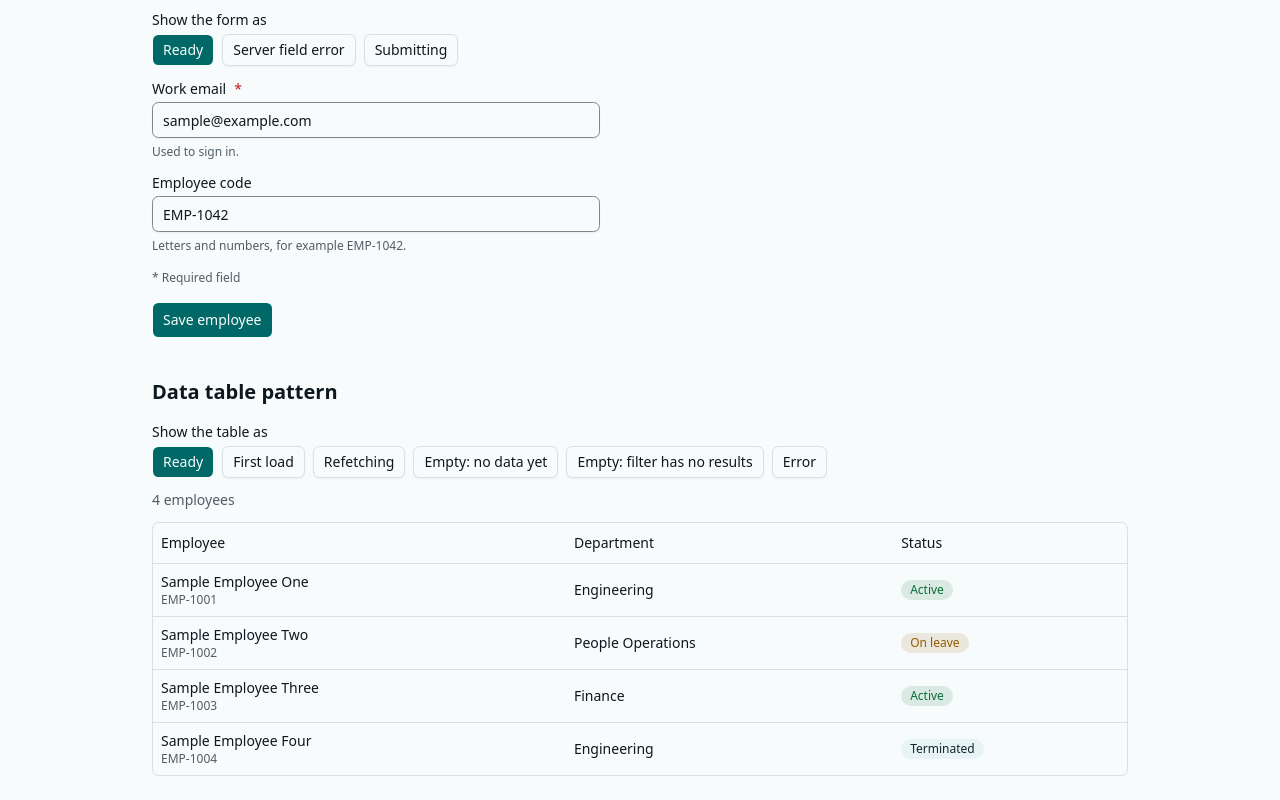
FoundationPreview › data table states › shows an error with a way to retry
(page scrolled)
Step 1. Click the button "Error" → (799, 462), box [772,446,827,478]
(page scrolled)
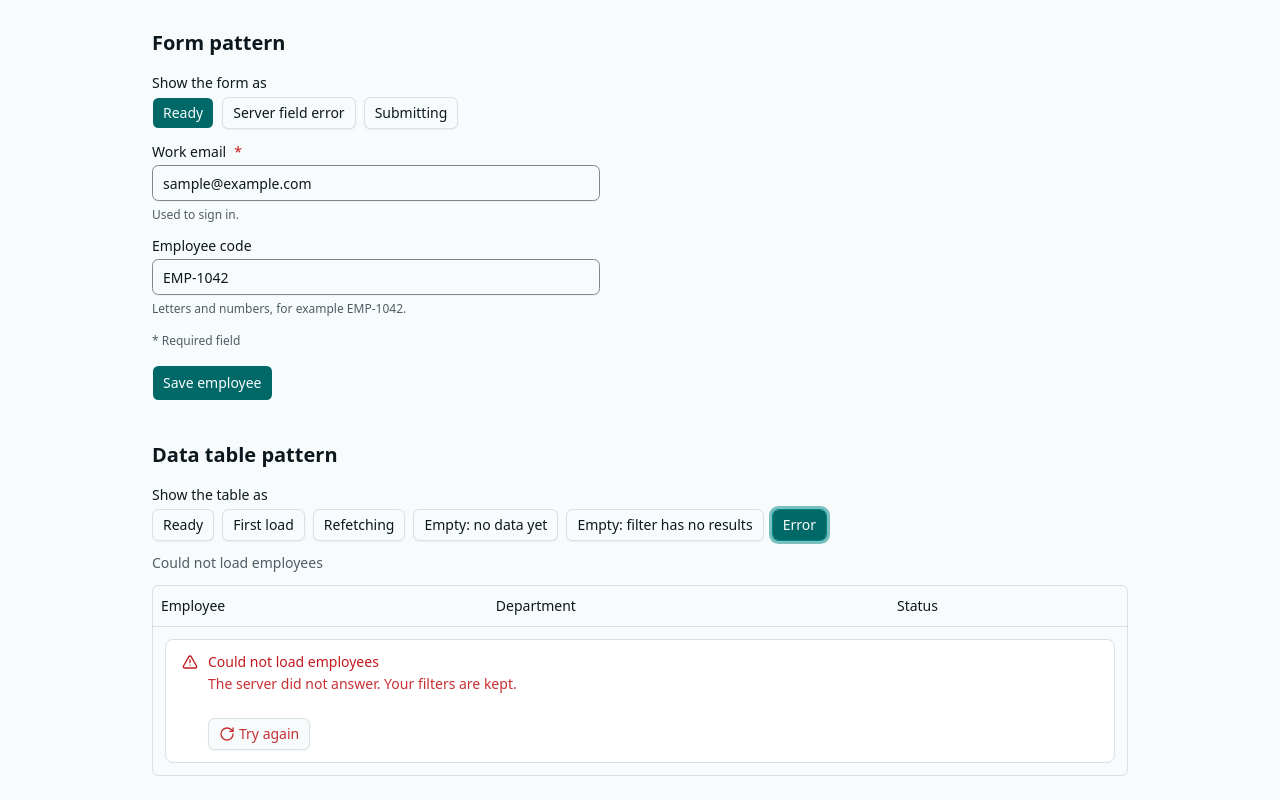
Expected: the 2nd message shows "Could not load employees", [208,652,379,670]
Expected: the button "Try again" is shown, [208,718,310,750]
